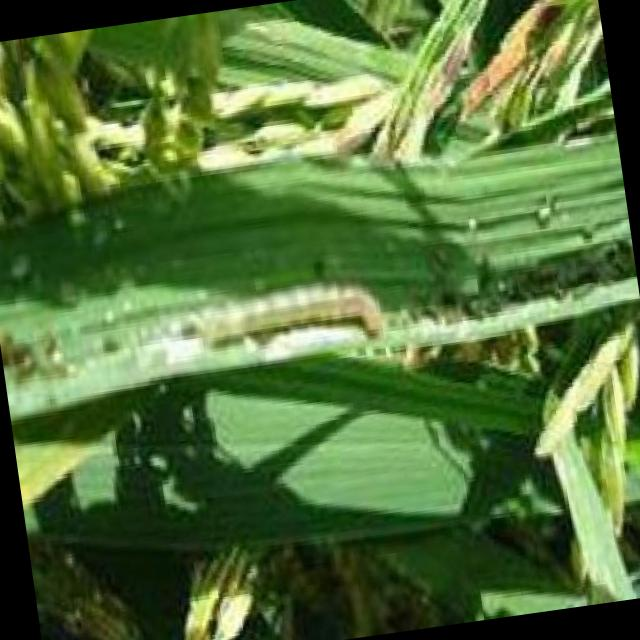leaf-folder: (188, 252, 403, 382)
